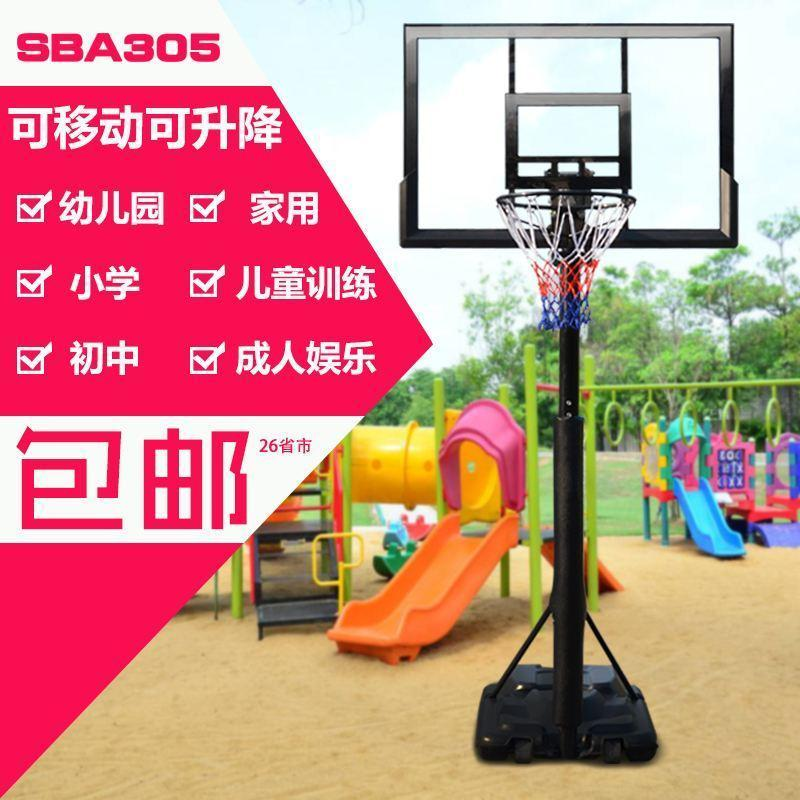rim: (494, 190, 640, 326)
